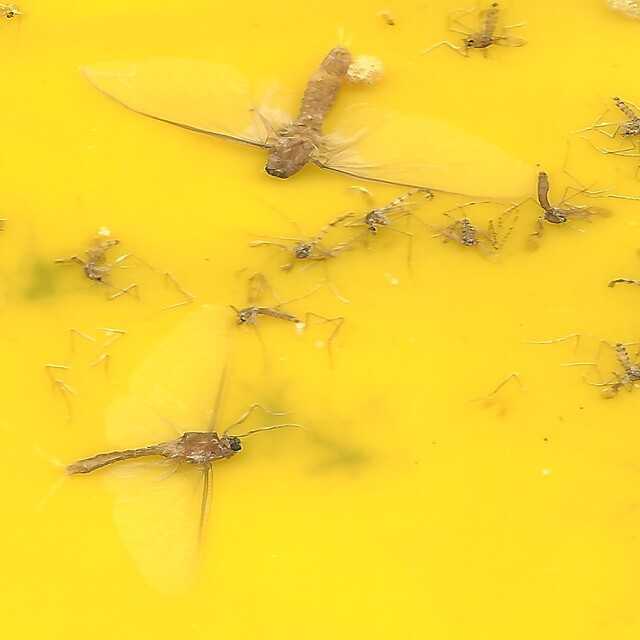Ephemeroptera: (79, 44, 518, 200), (60, 324, 239, 596)
Nematocera: (279, 212, 357, 269), (361, 187, 433, 233), (532, 170, 580, 228), (449, 209, 512, 251), (230, 301, 305, 329)
